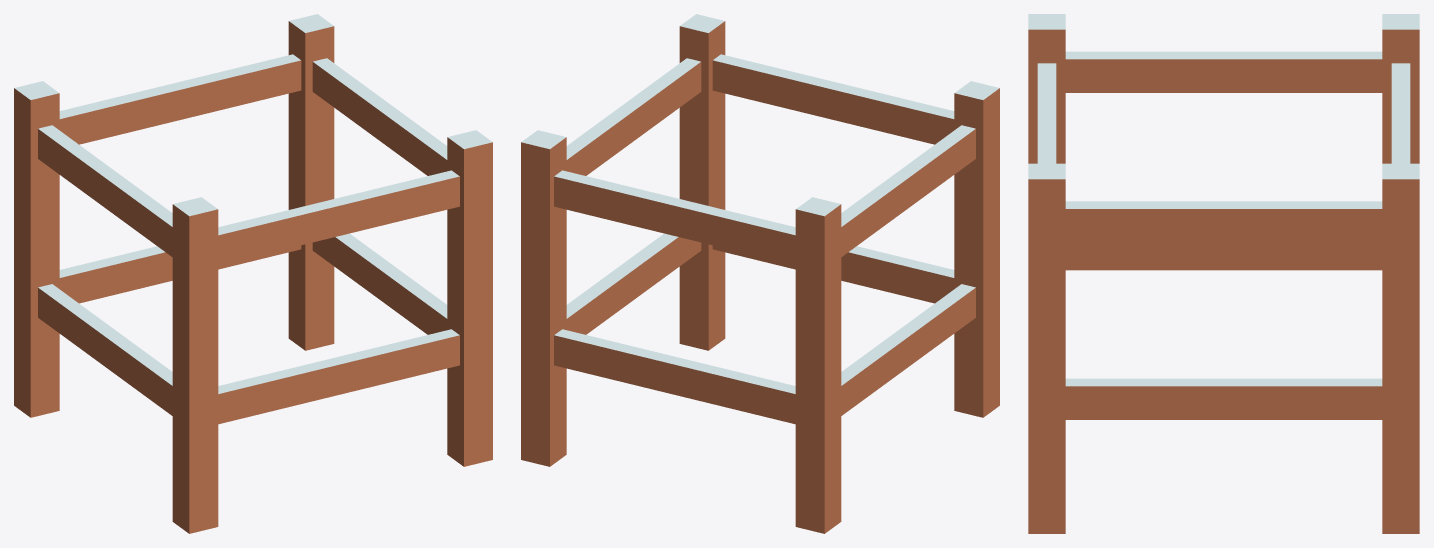
Rendered from snow_woodStructure_high.dae.
3 renders of one model, left to right at view 1: azimuth 30°, elevation 25°; view 2: azimuth 150°, elevation 25°; view 3: azimuth 270°, elevation 25°, orthographic. The views are drawn at different scales.
Visible parts, largest first — view 1: snow_woodStructure_high; view 2: snow_woodStructure_high; view 3: snow_woodStructure_high.
Part boxes in pixels (x1,y1,x2,y2): snow_woodStructure_high: (14, 14, 492, 533); snow_woodStructure_high: (521, 14, 999, 533); snow_woodStructure_high: (1028, 14, 1419, 533).
Bounding box in the file's own units: 1 × 1 × 1.
